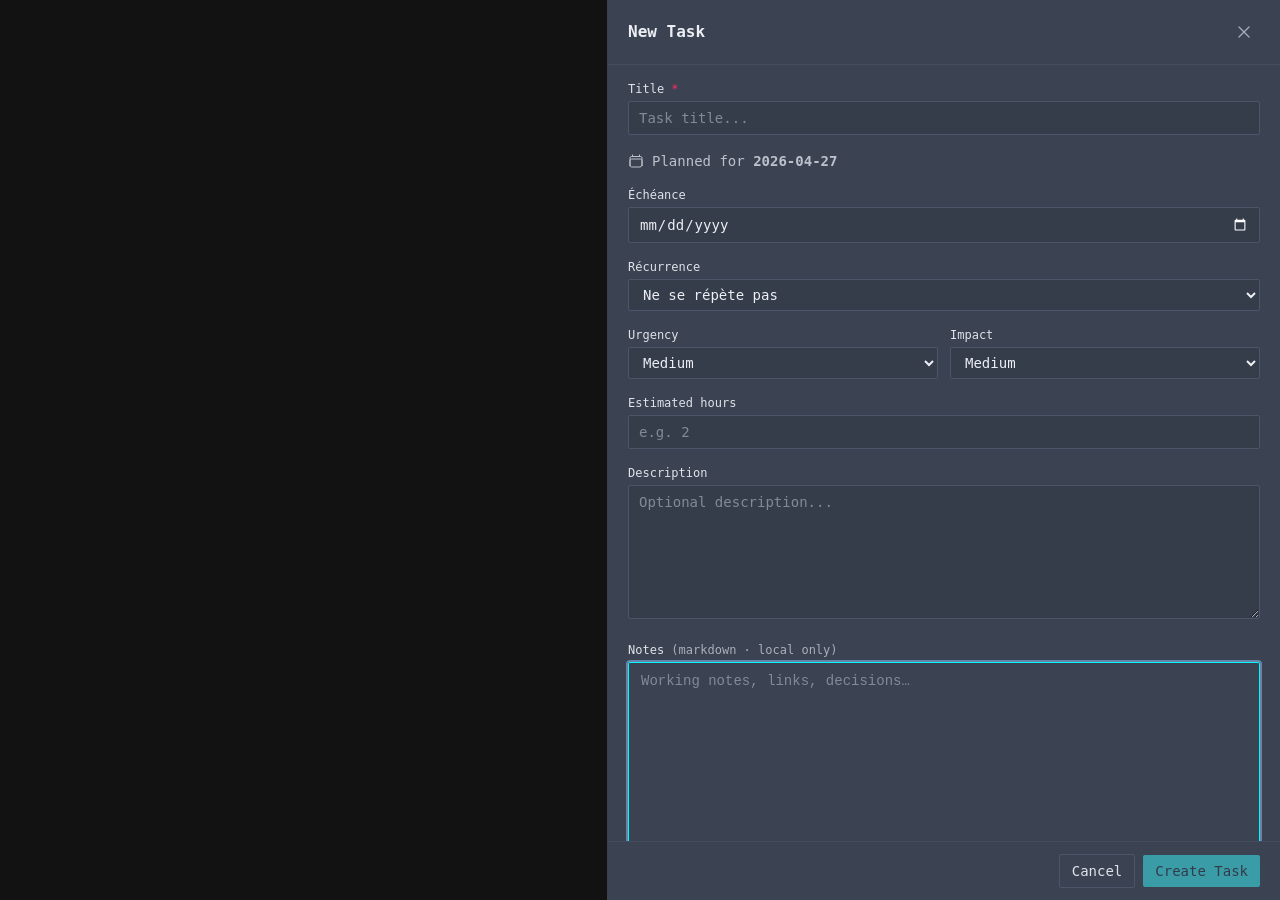
TaskCreateSheet — deadline field › brings the field back when the recurrence is dropped
Select "Toutes les semaines" in the dropdown labelled "Récurrence" at (944, 295), box 628,279 -> 1260,311
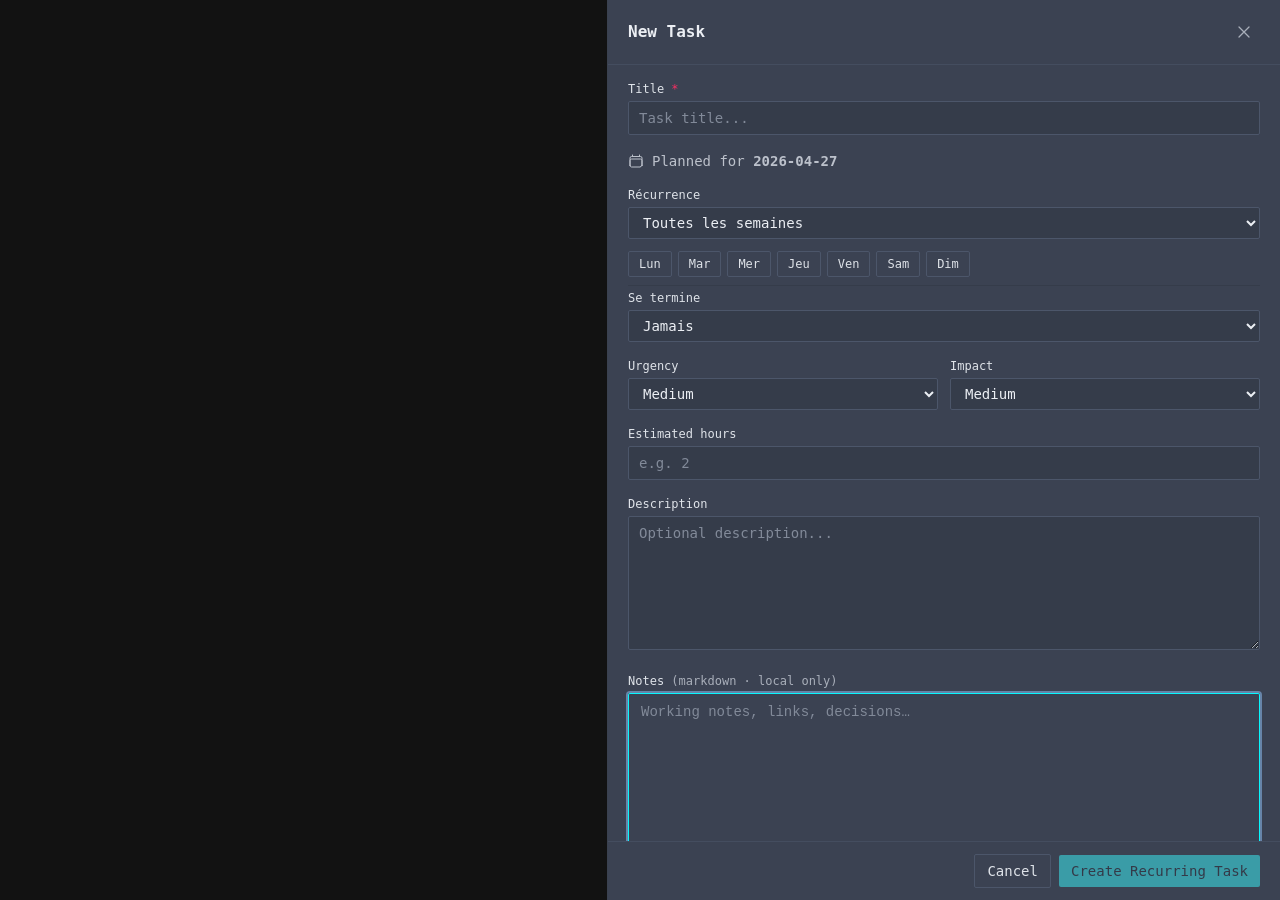
Select "Ne se répète pas" in the dropdown labelled "Récurrence" at (944, 223), box 628,207 -> 1260,239
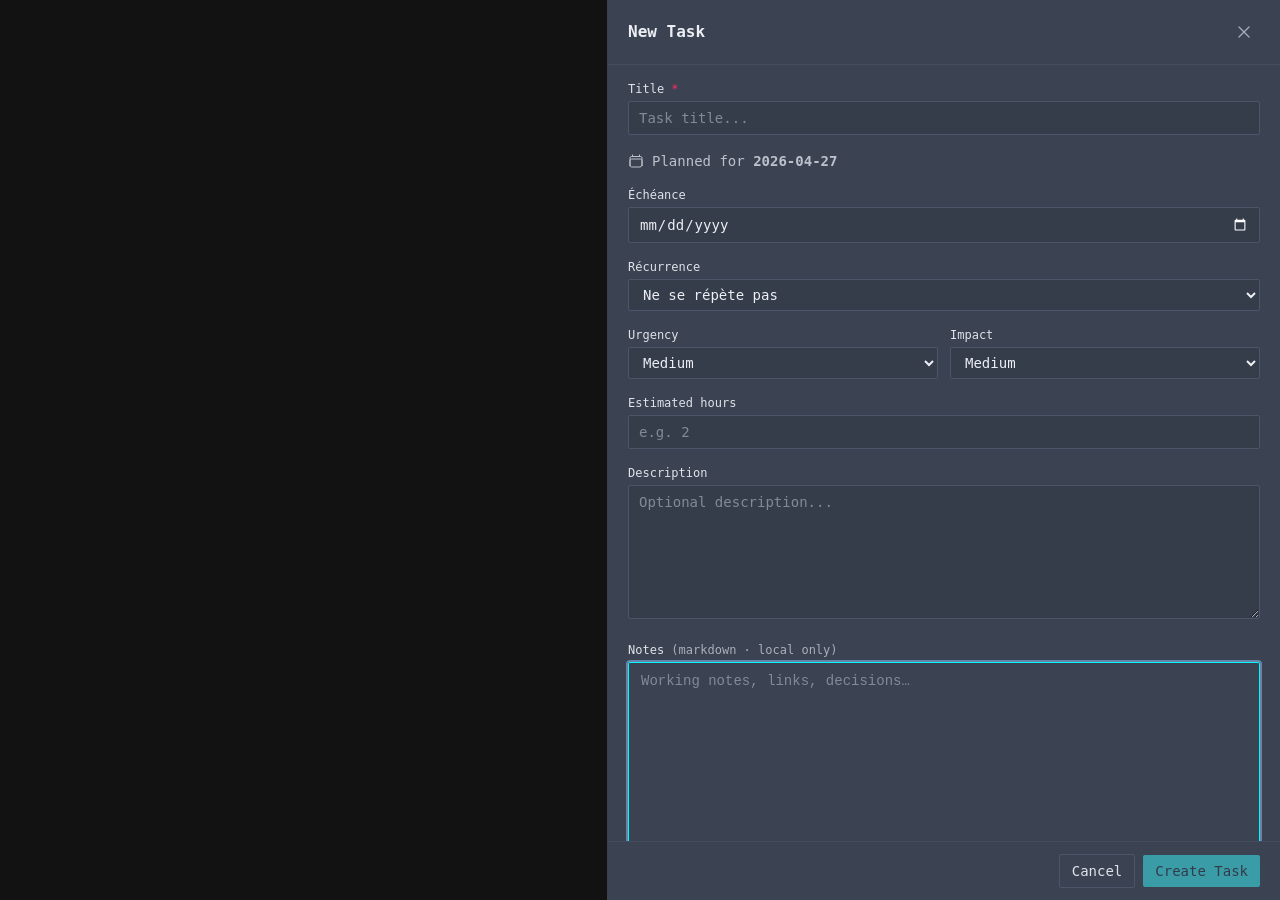
Expected: the date field labelled "Échéance" is shown, 628,207 -> 1260,243
